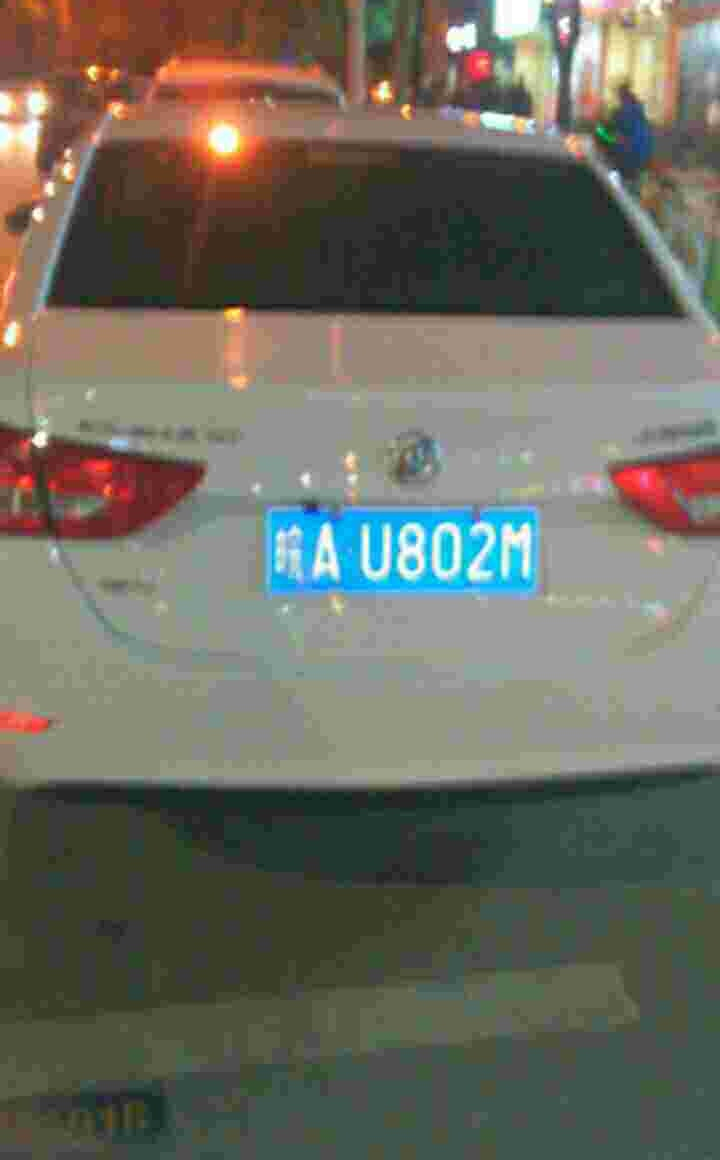car: (269, 502, 533, 598)
